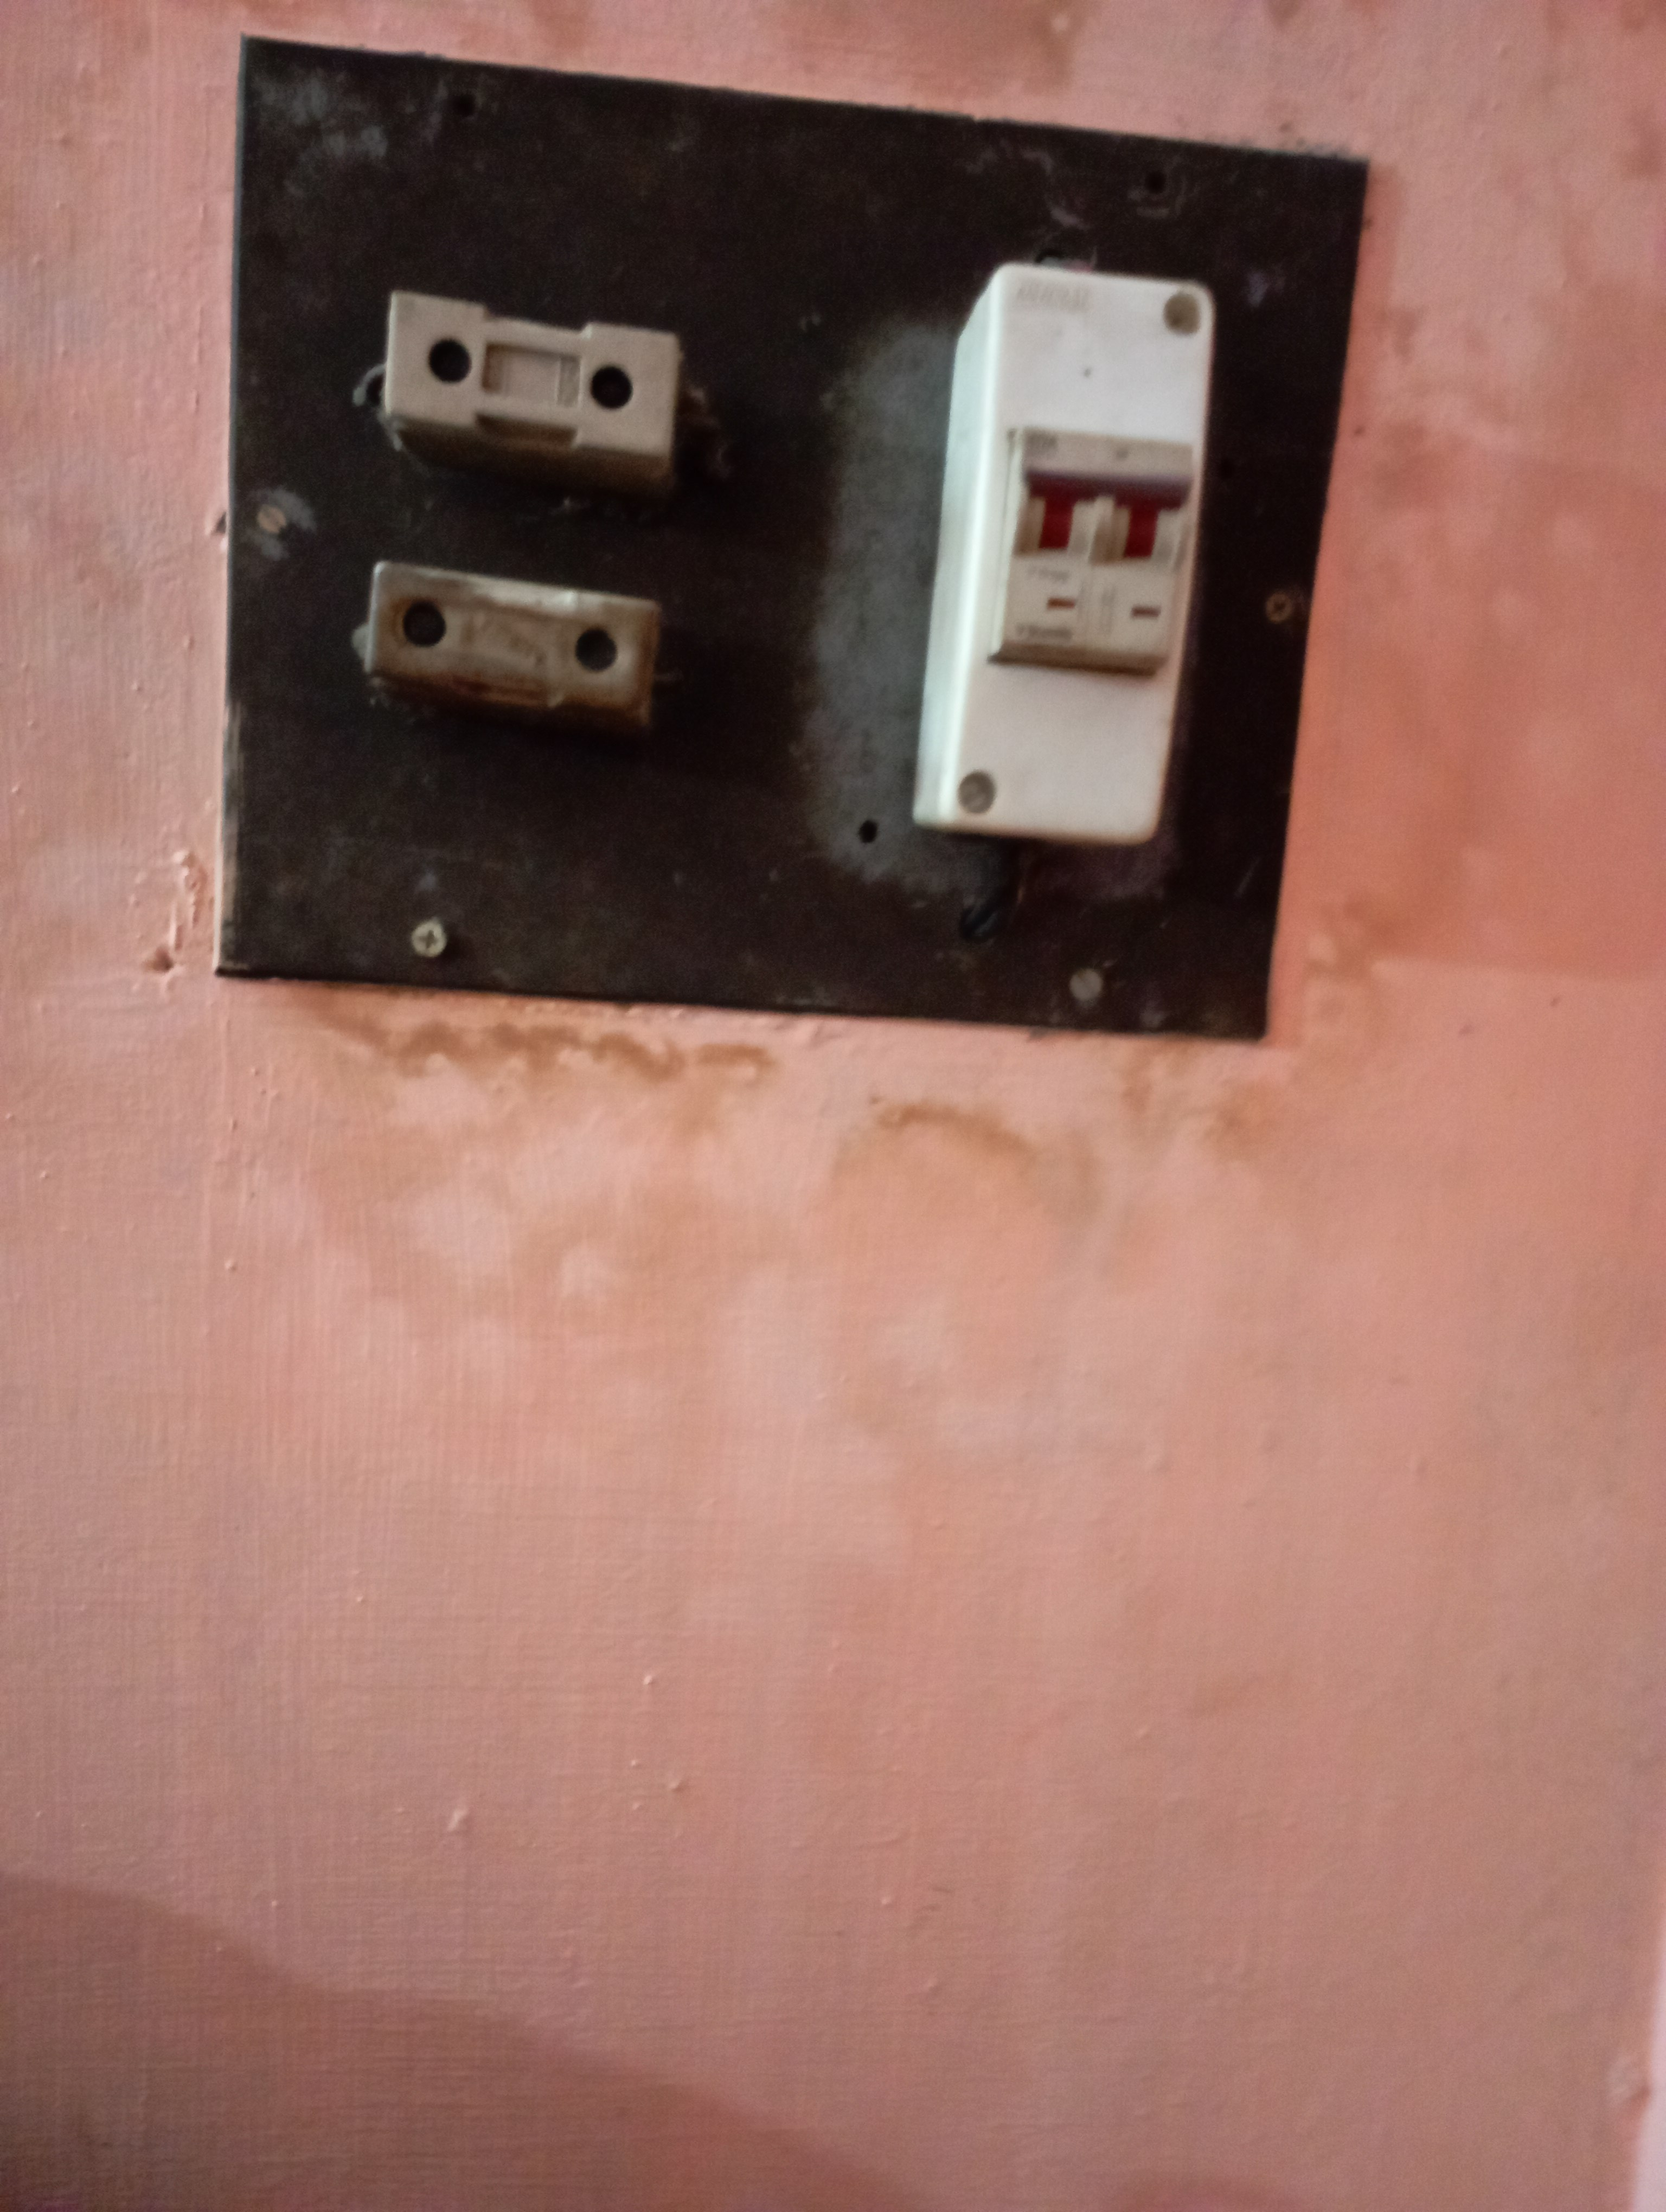ciruit_breaker: (935, 247, 1185, 867)
fuse: (352, 533, 691, 736), (348, 273, 709, 462)
